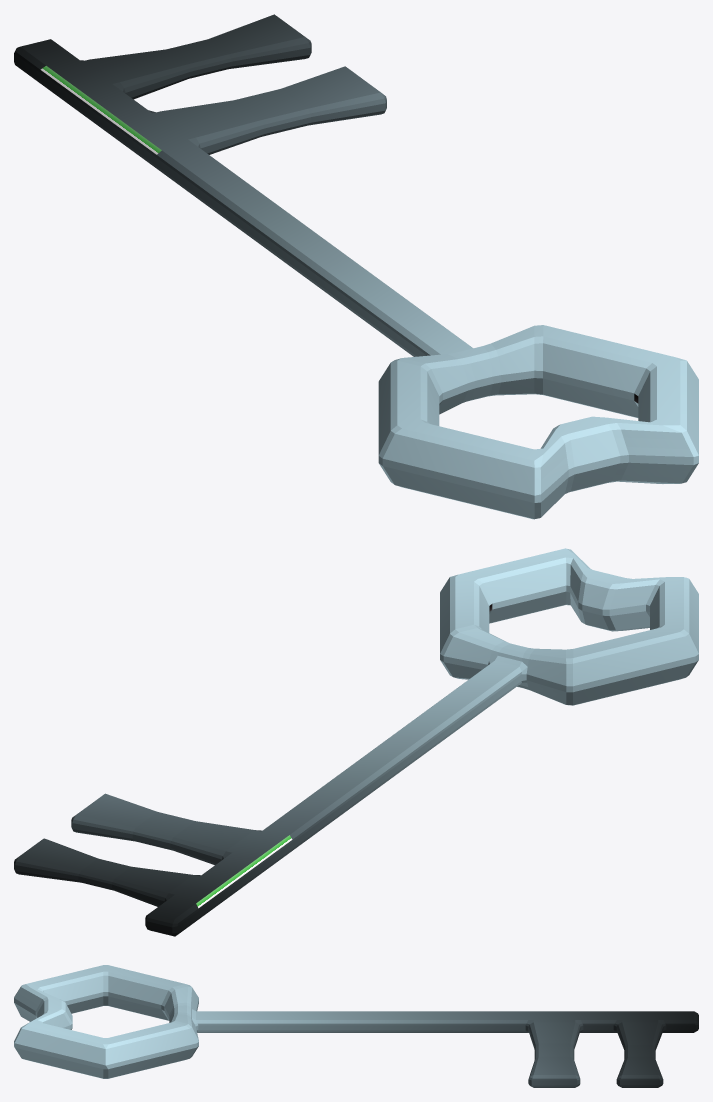
Rendered from obj_key_.melissaLiao_01.glb.
3 views of the same model, one above another, from view 1: azimuth 30°, elevation 25°; view 2: azimuth 150°, elevation 25°; view 3: azimuth 270°, elevation 25° (orthographic). The views are drawn at different scales.
Parts seen in each view (by area): view 1: Torus; view 2: Torus; view 3: Torus.
Part boxes in pixels (x1=…): Torus: x1=14, y1=14, x2=698, y2=519; Torus: x1=14, y1=548, x2=698, y2=936; Torus: x1=14, y1=965, x2=698, y2=1087.
Size of the model in its own units: 2.86 by 0.433 by 7.82.
Materials: 1 (1 with a texture image).
